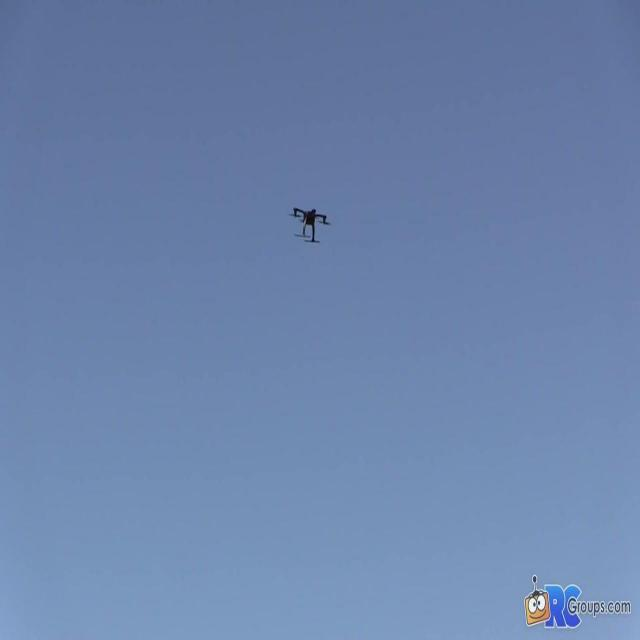UAV: (288, 207, 332, 243)
